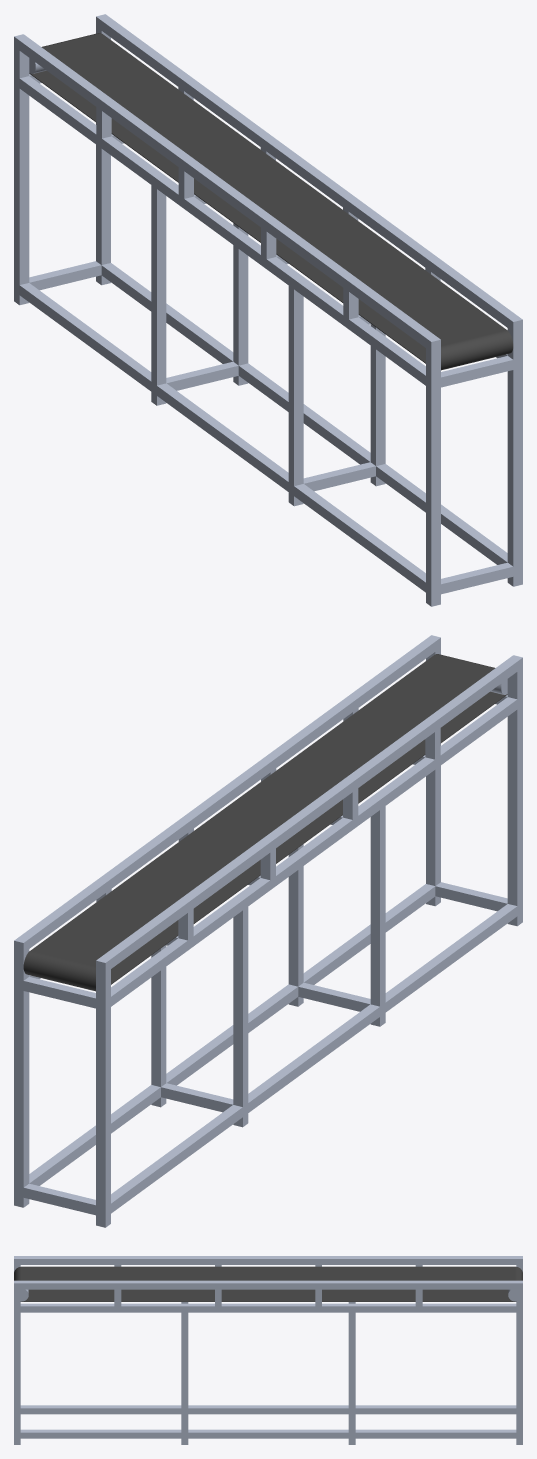
The model's file is Conveyor.glb.
3 views of the same model, one above another, from view 1: azimuth 30°, elevation 25°; view 2: azimuth 150°, elevation 25°; view 3: azimuth 270°, elevation 25° (orthographic). The views are drawn at different scales.
Parts seen in each view (by area): view 1: Conveyor; view 2: Conveyor; view 3: Conveyor.
Boxes of the visible parts, <box> form: Conveyor: <box>14,14,522,606</box>; Conveyor: <box>14,635,522,1227</box>; Conveyor: <box>14,1256,522,1444</box>.
Size of the model in its own units: 0.38 by 1.05 by 3.
